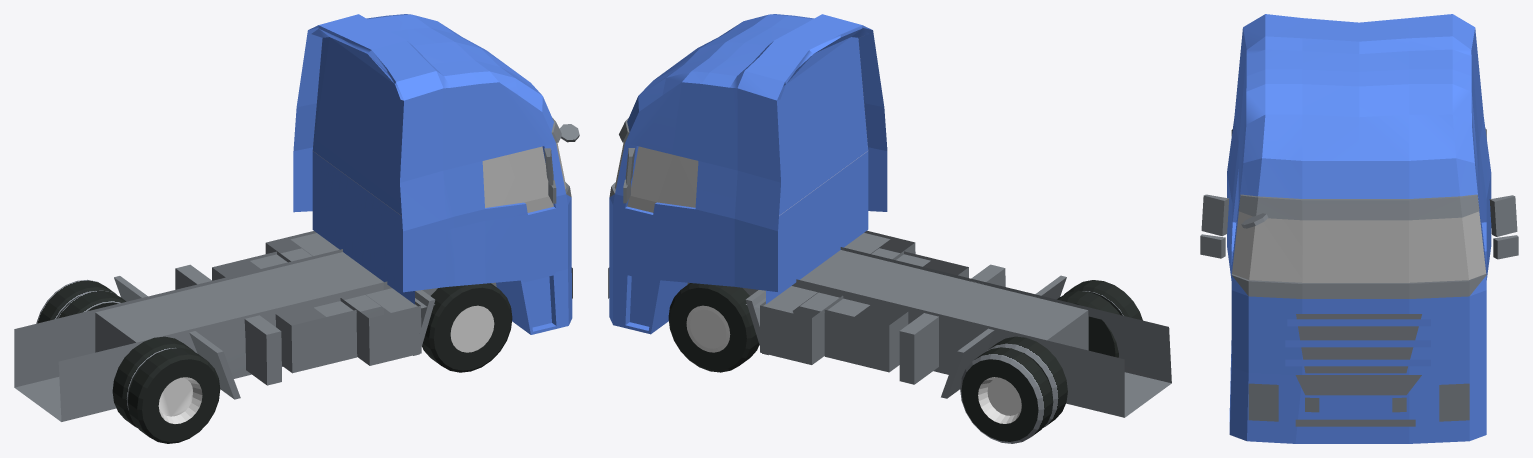
File: sk_hyblue_web.fbx
3 views of the same model, side by side, from view 1: azimuth 30°, elevation 25°; view 2: azimuth 150°, elevation 25°; view 3: azimuth 270°, elevation 25° (orthographic). The views are drawn at different scales.
Visible parts, largest first — view 1: sk_saic_hyblue_web; view 2: sk_saic_hyblue_web; view 3: sk_saic_hyblue_web.
Boxes of the visible parts, x1=… form: sk_saic_hyblue_web: x1=14, y1=14, x2=579, y2=443; sk_saic_hyblue_web: x1=608, y1=14, x2=1171, y2=443; sk_saic_hyblue_web: x1=1200, y1=14, x2=1518, y2=443.
Bounding box in the file's own units: 6.59 × 3.74 × 3.01.
Materials: 1 (1 with a texture image).
